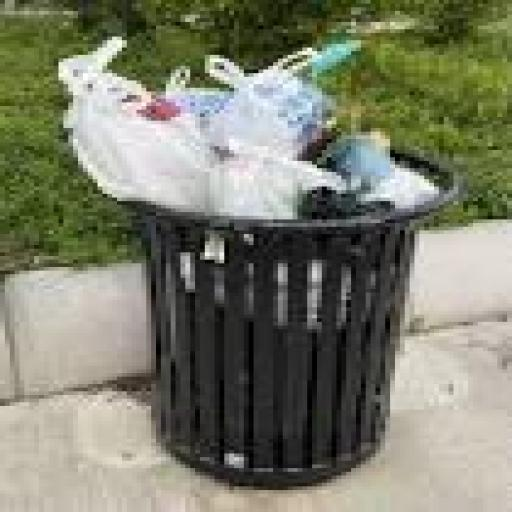poubelle_pleine: (43, 41, 473, 492)
